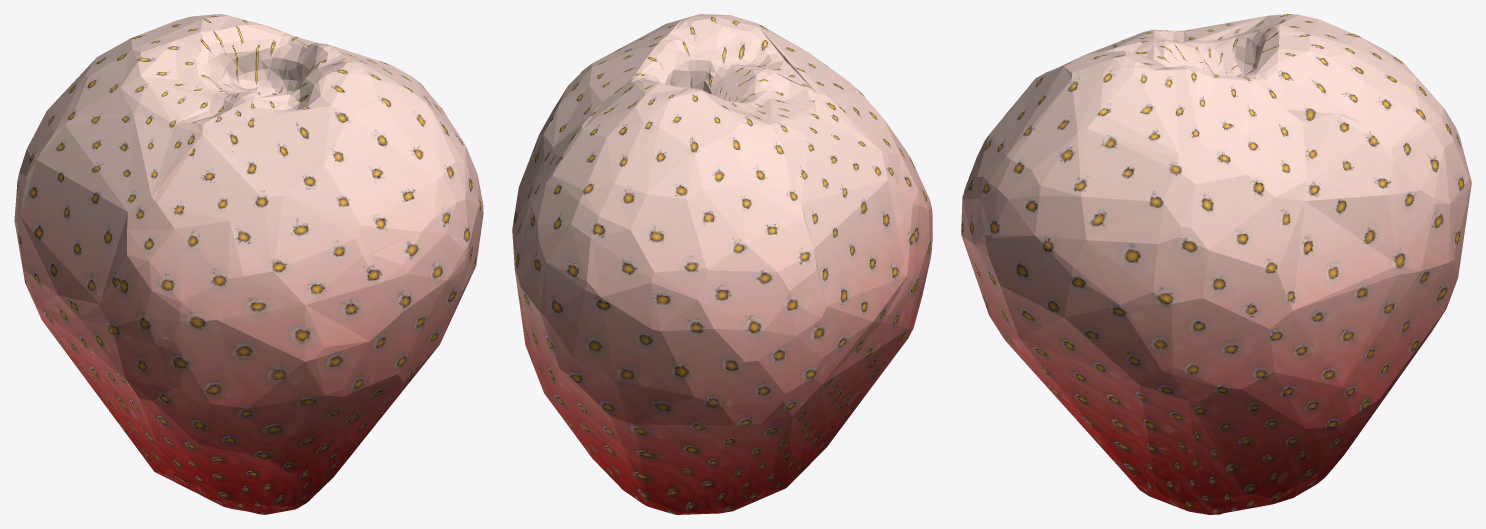
3 views of the same model, side by side, from view 1: azimuth 30°, elevation 25°; view 2: azimuth 150°, elevation 25°; view 3: azimuth 270°, elevation 25° (orthographic). The views are drawn at different scales.
Visible parts, largest first — view 1: _001_Meshed; view 2: _001_Meshed; view 3: _001_Meshed.
Part boxes in pixels (left/top/right/bottom): _001_Meshed: left=14, top=14, right=483, bottom=514; _001_Meshed: left=512, top=14, right=932, bottom=514; _001_Meshed: left=961, top=14, right=1471, bottom=514.
Bounding box in the file's own units: 0.0955 × 0.1113 × 0.1115.
1 material, 1 textured.
